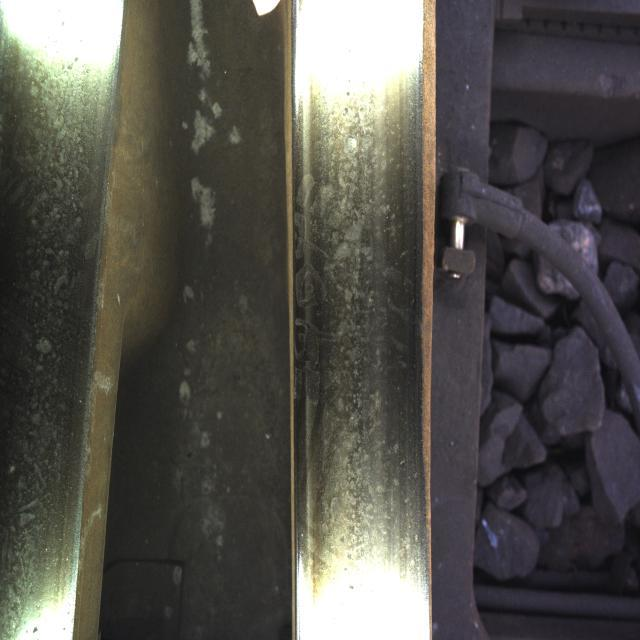crack: (308, 54, 418, 626)
